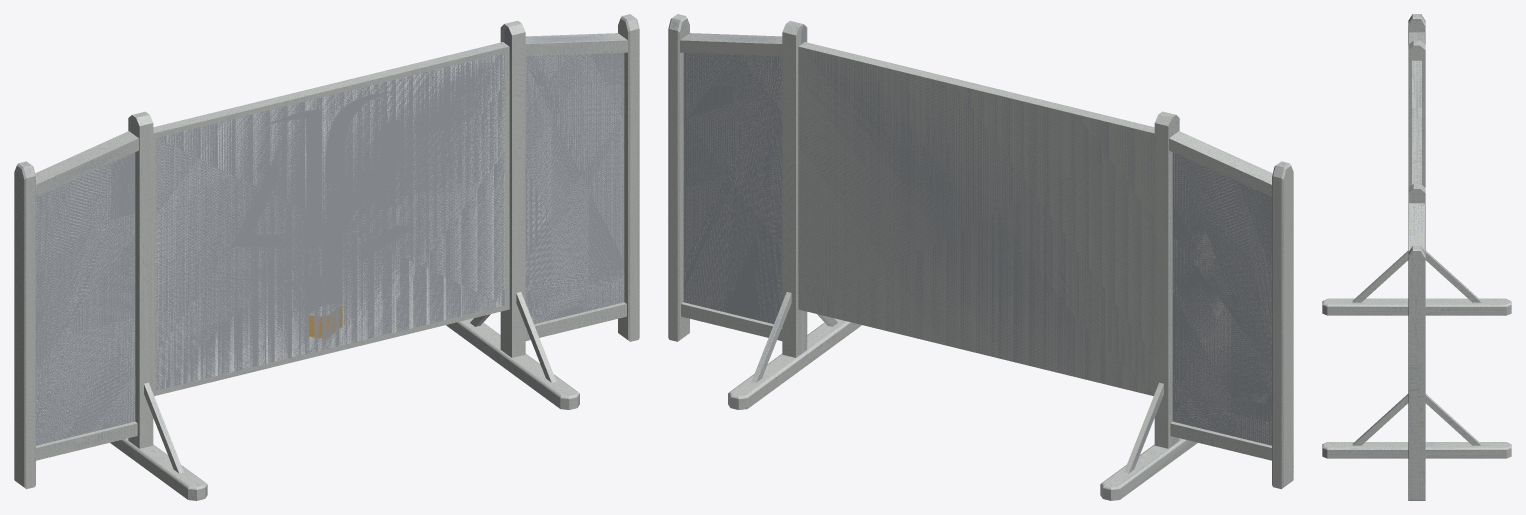
File: obs_4p2.fbx
3 views of the same model, side by side, from view 1: azimuth 30°, elevation 25°; view 2: azimuth 150°, elevation 25°; view 3: azimuth 270°, elevation 25° (orthographic). The views are drawn at different scales.
Visible parts, largest first — view 1: Group2, Group3, Group4, Component_1_2, Component_1_1; view 2: Group2, Group3, Group4, Component_1_2, Component_1_1; view 3: Component_1_1, Group4, Component_1_2, Group2, Group3.
Boxes of the visible parts, x1=… form: Group2: x1=153, y1=42, x2=509, y2=396; Group3: x1=14, y1=131, x2=138, y2=489; Group4: x1=525, y1=14, x2=639, y2=341; Component_1_2: x1=446, y1=20, x2=579, y2=409; Component_1_1: x1=110, y1=111, x2=207, y2=500; Group2: x1=798, y1=42, x2=1154, y2=396; Group3: x1=1169, y1=131, x2=1293, y2=489; Group4: x1=668, y1=14, x2=782, y2=341; Component_1_2: x1=728, y1=20, x2=861, y2=409; Component_1_1: x1=1100, y1=111, x2=1197, y2=500; Component_1_1: x1=1322, y1=40, x2=1511, y2=315; Group4: x1=1408, y1=203, x2=1425, y2=500; Component_1_2: x1=1322, y1=183, x2=1511, y2=458; Group2: x1=1412, y1=60, x2=1421, y2=184; Group3: x1=1408, y1=14, x2=1425, y2=44.
Size of the model in its own units: 3.86 by 2.05 by 1.31.
